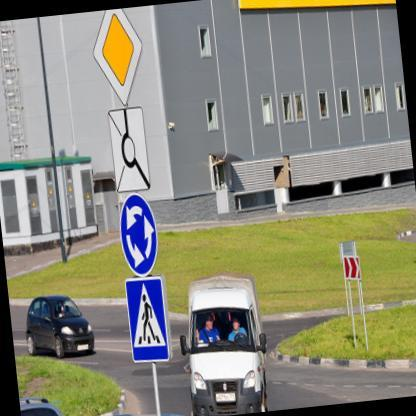road_sign: (94, 11, 142, 105), (126, 277, 171, 362), (109, 106, 150, 193), (120, 194, 156, 276)
